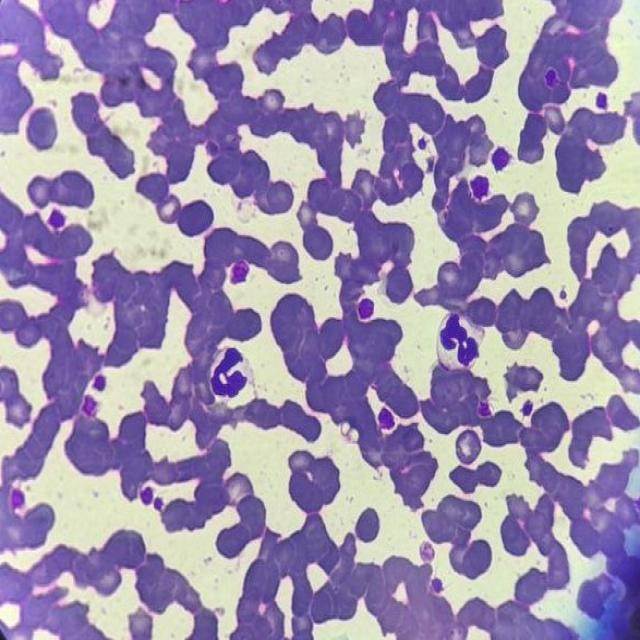Neutrofilo: (205, 342, 257, 408), (435, 307, 488, 371)
